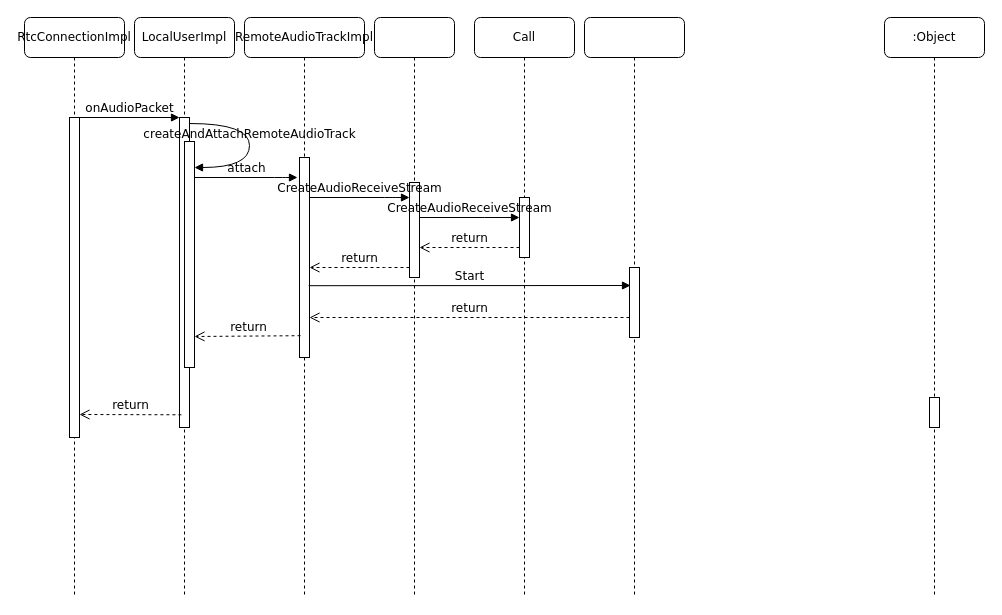
Some shapes in this 1002 by 615 pixel diagram are drawn without their labels. Each missing label, with the box of its shape:
AudioProcessor: (374, 16, 454, 598)
AudioReceiveStream: (584, 16, 684, 598)
